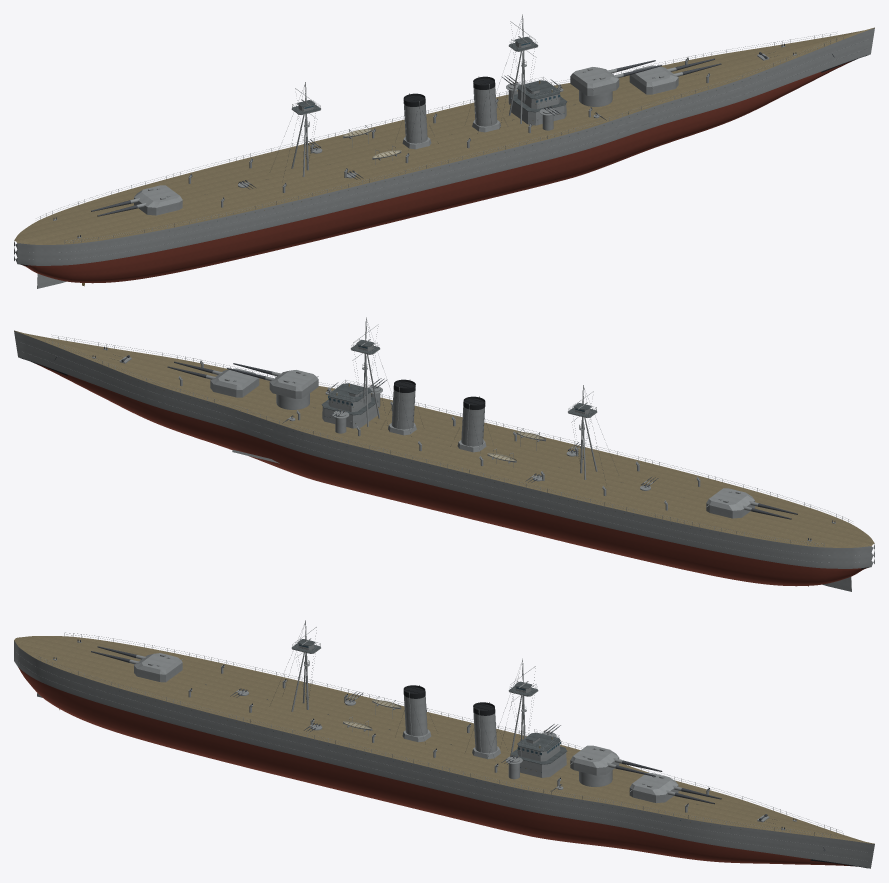
Rendered from renown.glb.
3 renders of one model, top to bottom at view 1: azimuth 30°, elevation 25°; view 2: azimuth 150°, elevation 25°; view 3: azimuth 330°, elevation 25°, orthographic.
Parts seen in each view (by area): view 1: Renown class; view 2: Renown class; view 3: Renown class.
Boxes of the visible parts, left/top/right/bottom form: Renown class: left=14, top=14, right=874, bottom=288; Renown class: left=14, top=317, right=874, bottom=591; Renown class: left=14, top=620, right=874, bottom=868.
Bounding box in the file's own units: 242 × 42.8 × 27.52.
Materials: 9 (8 with a texture image).
